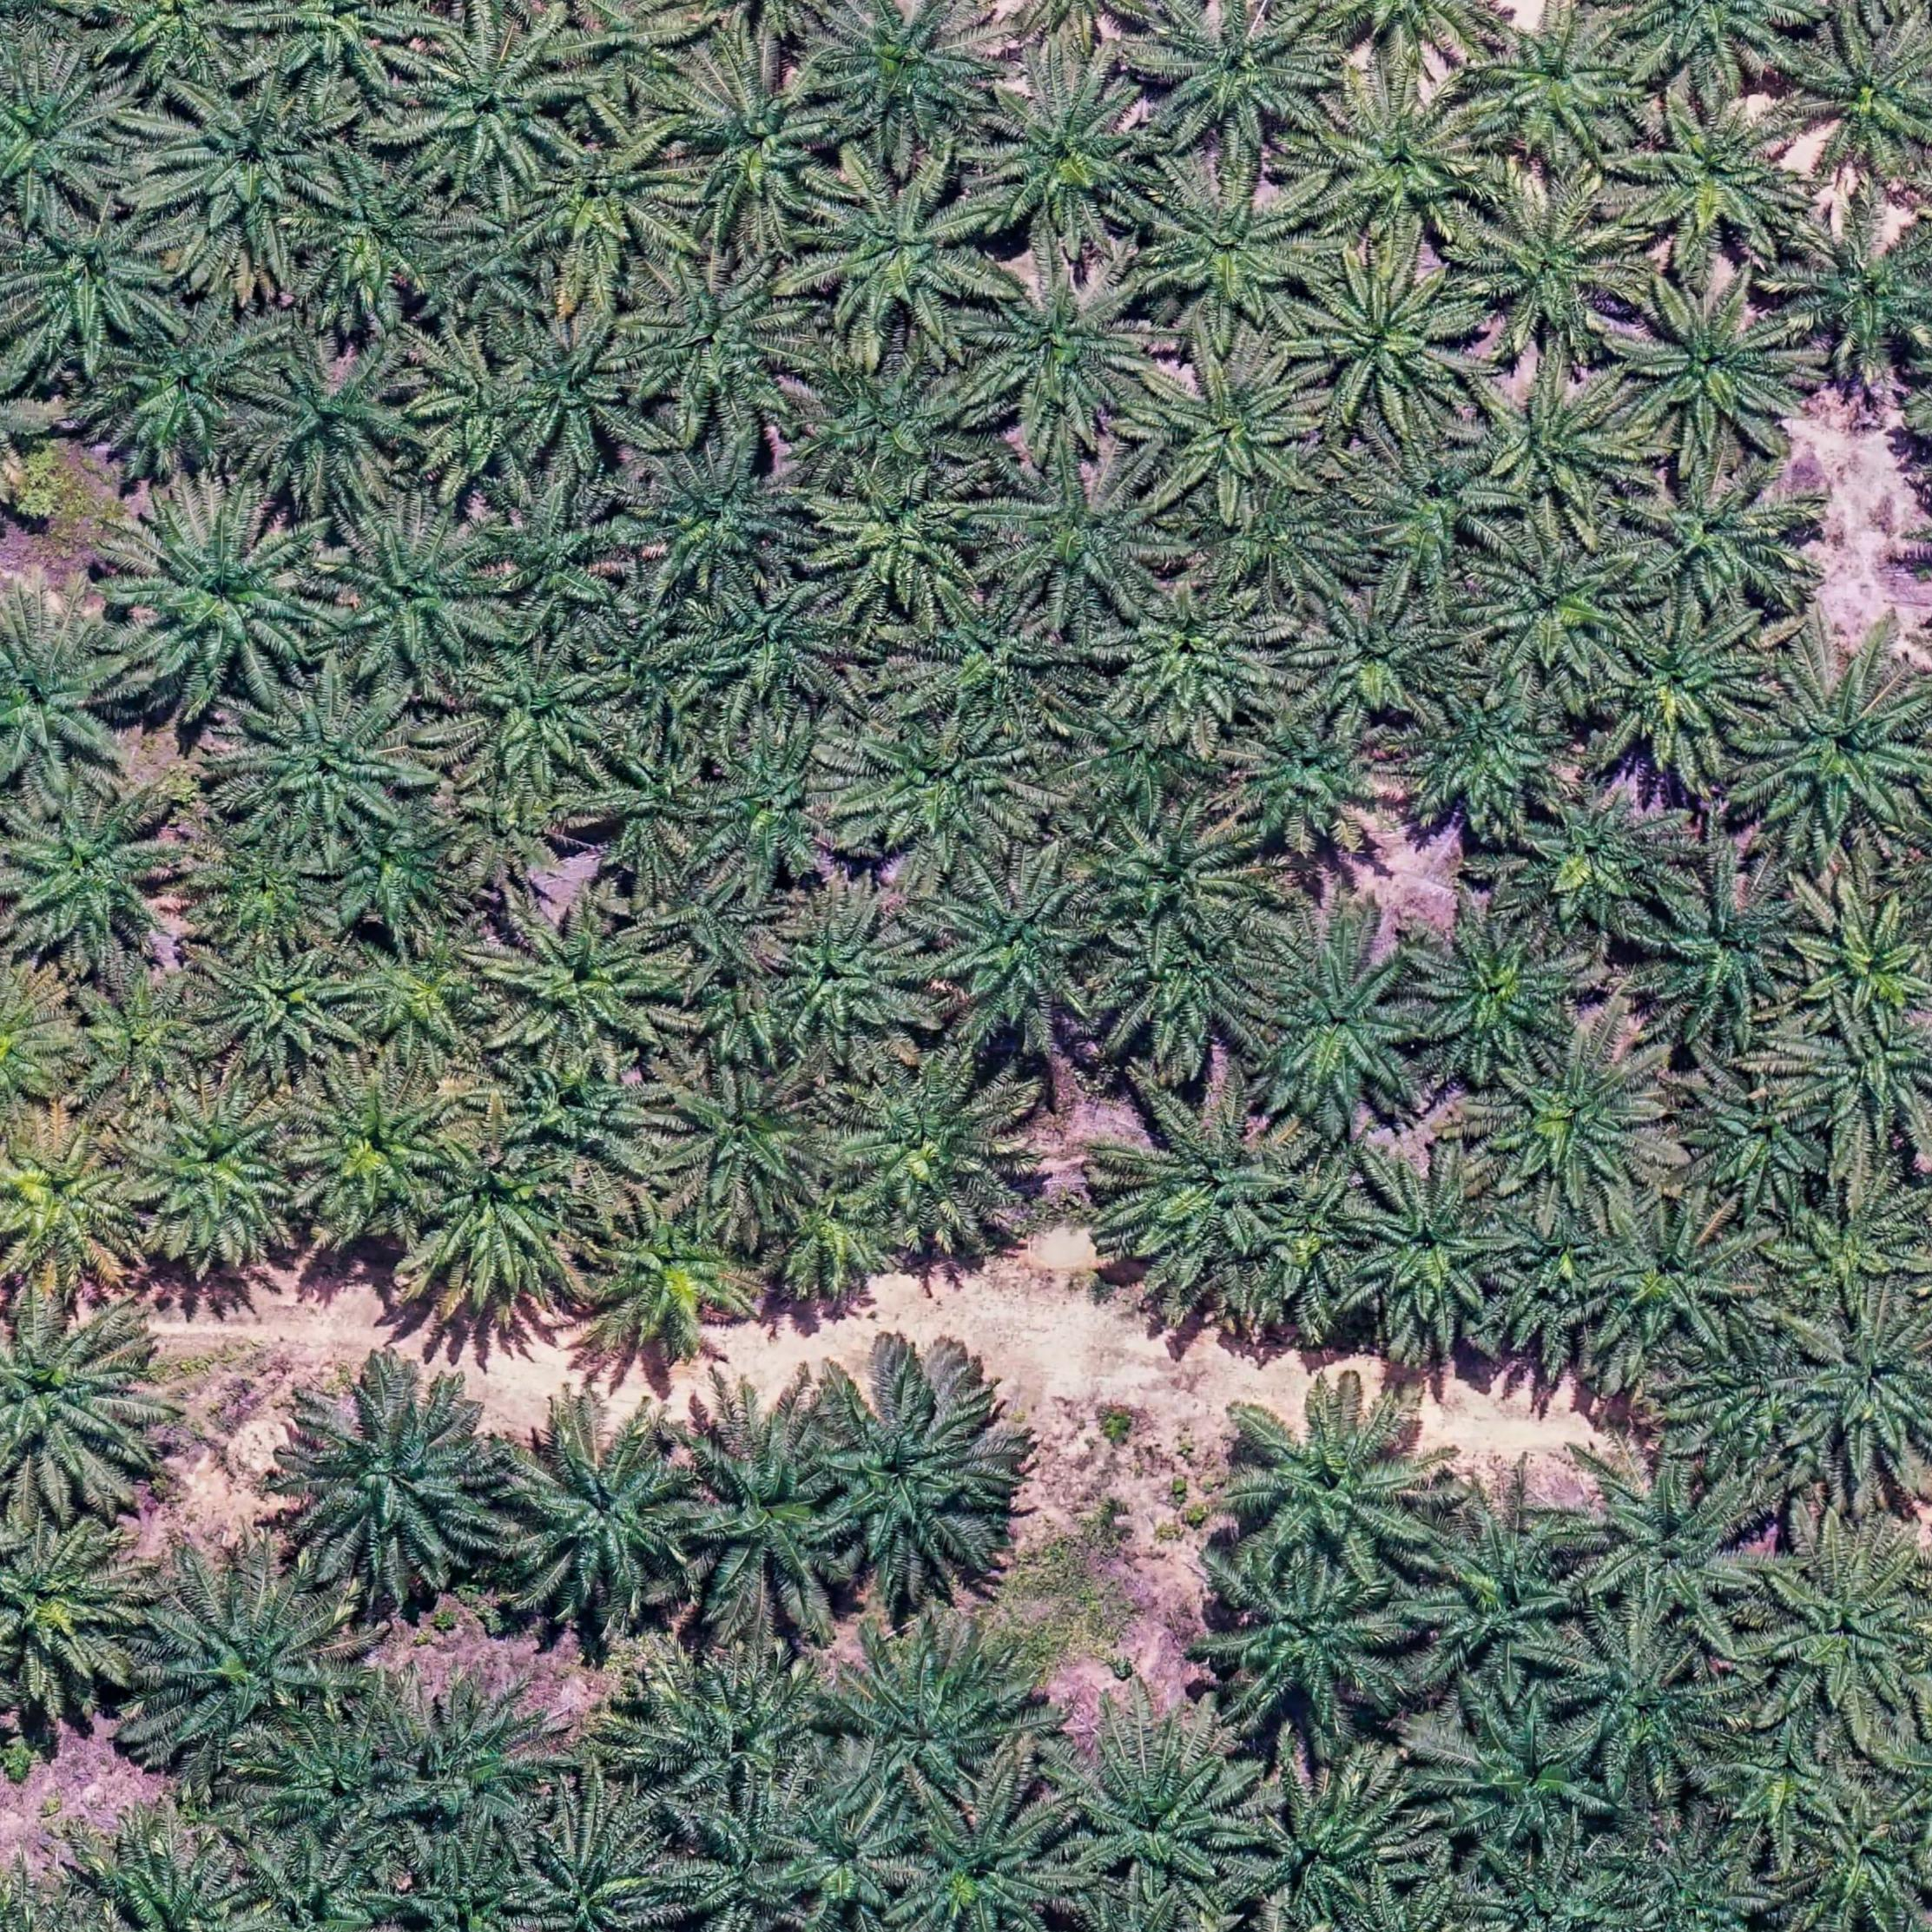palmtree: (292, 1378, 511, 1592), (115, 492, 333, 695), (809, 1369, 1008, 1585), (821, 1631, 1042, 1822), (502, 1414, 711, 1610), (1246, 1389, 1449, 1582), (147, 1571, 361, 1750), (1253, 931, 1440, 1131), (1739, 653, 1932, 844), (1573, 1461, 1775, 1644), (1106, 1092, 1300, 1279), (626, 1647, 846, 1812), (837, 1056, 1033, 1238), (1619, 274, 1813, 456), (407, 1131, 605, 1309), (124, 1081, 313, 1267), (676, 1421, 858, 1614), (1484, 1028, 1679, 1208), (968, 257, 1162, 435), (156, 74, 350, 253), (228, 683, 430, 855), (322, 502, 513, 683), (982, 451, 1180, 625), (978, 58, 1164, 242), (1753, 1537, 1932, 1727), (579, 1192, 768, 1371), (842, 708, 1047, 872), (1465, 182, 1651, 363), (805, 161, 993, 340), (931, 865, 1118, 1044), (1621, 96, 1810, 272), (0, 1299, 159, 1507), (7, 784, 193, 962), (1295, 255, 1483, 432), (626, 255, 817, 428), (99, 297, 290, 471), (1067, 1737, 1265, 1904), (1414, 1511, 1598, 1690), (1343, 1162, 1520, 1346), (1217, 1559, 1408, 1729), (490, 897, 679, 1067), (1578, 1196, 1769, 1364), (667, 53, 844, 234), (1306, 76, 1491, 248), (281, 1067, 469, 1237), (1092, 904, 1286, 1067), (409, 19, 591, 191), (1143, 345, 1330, 510), (242, 341, 426, 508), (1139, 165, 1320, 333), (1233, 1767, 1422, 1927), (1619, 458, 1810, 616), (1635, 865, 1813, 1033), (1596, 603, 1775, 771), (1467, 361, 1651, 524), (517, 117, 686, 292), (1430, 1700, 1612, 1861), (1152, 2, 1339, 157), (1474, 533, 1654, 694), (396, 1686, 571, 1849), (0, 1513, 150, 1702), (1412, 909, 1583, 1074), (690, 731, 858, 897), (814, 0, 1000, 149), (1476, 9, 1651, 166), (1396, 681, 1576, 833), (1224, 701, 1401, 855), (1108, 577, 1284, 731), (1348, 437, 1518, 596), (660, 1065, 837, 1217), (295, 157, 458, 322), (1518, 786, 1690, 941), (9, 211, 180, 363), (0, 1118, 150, 1292), (766, 895, 931, 1053), (1557, 1629, 1727, 1782), (0, 607, 136, 796), (814, 469, 989, 616), (1783, 209, 1932, 380), (639, 446, 810, 594), (1785, 14, 1932, 184), (1790, 1302, 1932, 1477), (793, 357, 975, 492), (456, 646, 623, 793), (897, 1796, 1076, 1932), (1293, 586, 1458, 731), (340, 924, 508, 1065), (203, 938, 373, 1077), (62, 971, 225, 1116), (690, 577, 858, 717), (911, 584, 1070, 729), (1090, 803, 1258, 939), (414, 338, 557, 494), (0, 57, 133, 223), (501, 317, 640, 474), (483, 481, 633, 626), (257, 1714, 416, 1851), (1683, 1074, 1836, 1214), (1196, 487, 1368, 610), (1769, 1185, 1925, 1320), (327, 807, 481, 941), (499, 1046, 663, 1171), (1063, 695, 1219, 824), (1672, 1332, 1817, 1468), (1706, 1711, 1856, 1842), (656, 1806, 812, 1932), (1796, 890, 1932, 1033), (584, 738, 725, 870), (1799, 1008, 1932, 1148), (191, 830, 343, 947), (768, 1171, 911, 1295), (1615, 0, 1806, 92), (253, 0, 428, 99), (778, 1796, 918, 1920), (1803, 1790, 1932, 1923), (648, 869, 789, 989), (515, 1829, 679, 1932), (232, 1840, 403, 1932), (451, 778, 593, 886), (1495, 1203, 1622, 1322), (441, 198, 563, 320), (573, 0, 708, 110), (1254, 1169, 1378, 1288), (1624, 1835, 1773, 1932), (97, 1849, 269, 1932), (1467, 1856, 1652, 1932), (387, 1847, 550, 1932), (1879, 1713, 1932, 1851)
